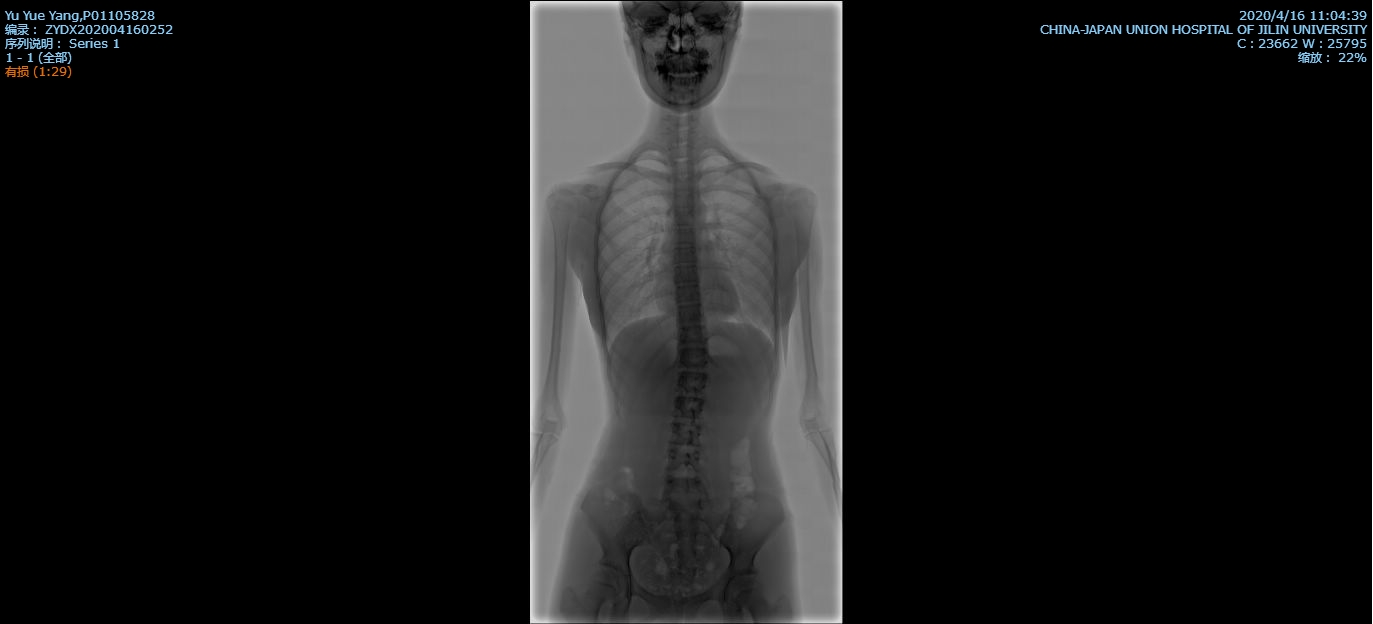Bone: (667, 478, 702, 501), (669, 448, 700, 470), (674, 398, 702, 418), (671, 424, 698, 444), (678, 372, 706, 390), (680, 348, 708, 364), (679, 325, 706, 340), (673, 265, 697, 280), (678, 304, 701, 319), (676, 285, 700, 299), (676, 248, 698, 263), (674, 211, 694, 225), (677, 229, 695, 244)
